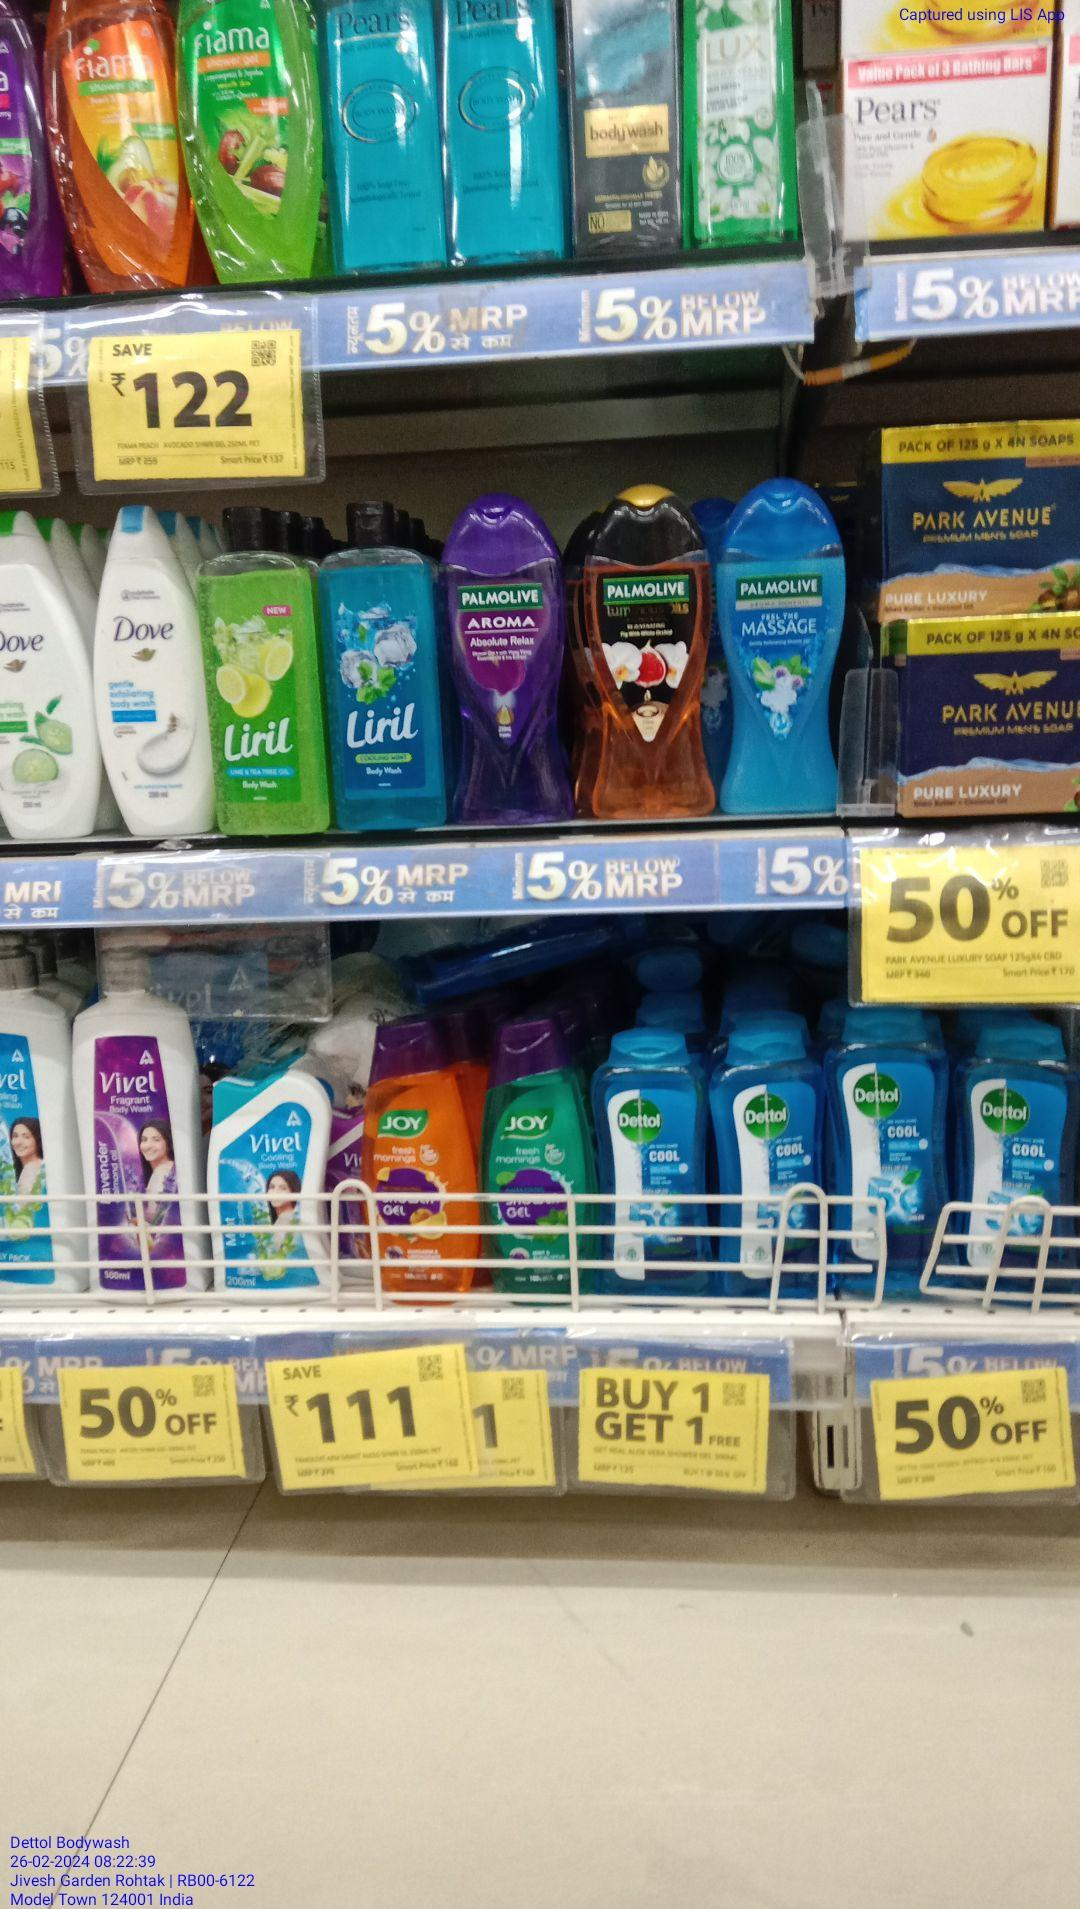Dettol_Bodywash_Cool: (832, 1014, 952, 1295), (966, 1020, 1070, 1303), (600, 1037, 706, 1289), (718, 1031, 820, 1288), (949, 1289, 950, 1290)
Dove_Gentle_Exfoliating_Body_Wash_250ML: (100, 511, 206, 834)
Dove_Refreshing_Body_Wash_250ML: (0, 515, 92, 843)
Fiama_Shower_Gel_Lemongrass_and_Jojoba_250ML: (187, 0, 316, 283)
Fiama_Shower_Gel_Peach_and_Avocado_250ML: (48, 3, 176, 290)
Joy_Shower_Gel_Mandarin_and_Lemongrass_250ML: (362, 1020, 463, 1305)
Joy_Shower_Gel_Mint_and_Eucalyptus_250ML: (480, 1021, 594, 1302)
Liril_Cooling_Mint_Body_Wash_250ML: (324, 498, 431, 831)
Liril_Lime_and_Tea_Tree_Oil_Body_Wash_250ML: (216, 505, 313, 834)
Lux_Body_Wash_Skin_Detox_Freesia_Scent_and_Alove_Vera_245ML: (688, 0, 793, 246)
Palmolive_Aroma_Moments_Feel_The_Massage_Shower_Gel_250ML: (720, 480, 844, 814), (670, 1421, 780, 1440)
Palmolive_Aroma_Relax_250ML: (446, 496, 566, 825)
Palmolive_Luminous_Oils_With_White_Orchid_Shower_Gel_250ML: (585, 486, 712, 819)
Pears_Pure_Glycerin_and_Mint_Extracts_Body_Wash_250ML: (443, 0, 557, 258), (329, 5, 434, 267)
